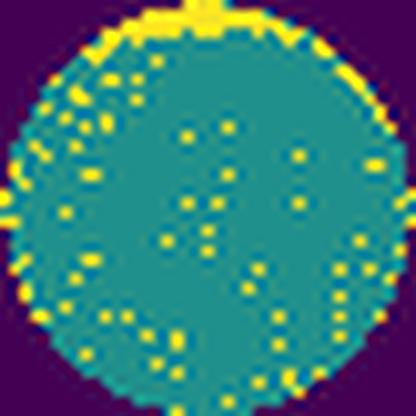Edge-Loc: (78, 0, 398, 138)
